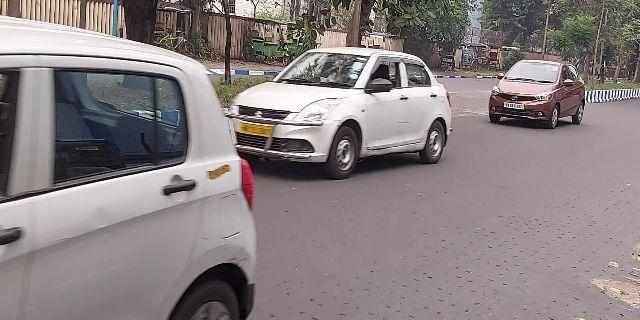Car: (3, 17, 257, 320), (226, 43, 454, 175), (491, 53, 587, 128)
